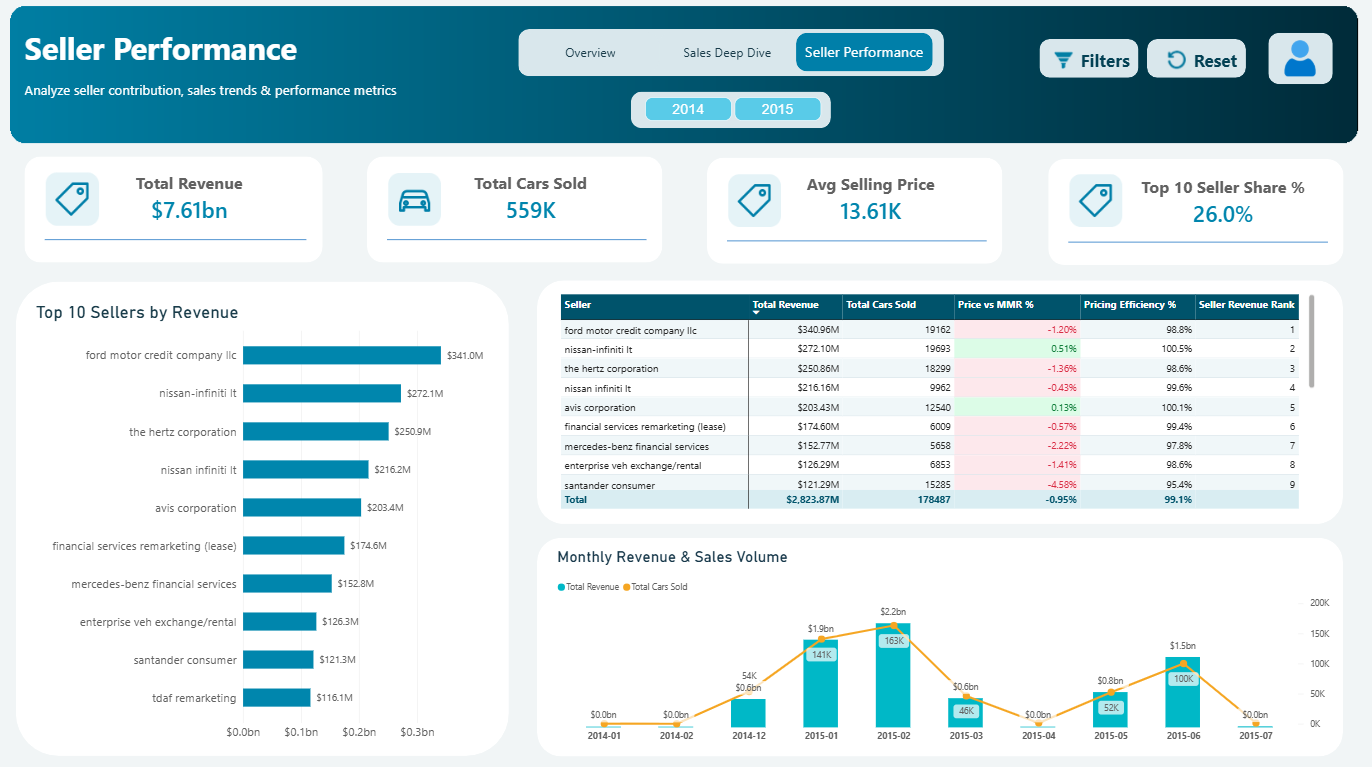

The page's visual inventory and layout, read from the dashboard file:
{"tool":"powerbi","page":{"name":"Seller Performance","canvas":[1920,1080],"ordinal":2},"visuals":[{"type":"image","box":[0,0,1920,1078],"z":0},{"type":"shape","box":[728,42,594,66],"z":0,"group":"g8"},{"type":"shape","box":[1774.3,47.1,90,71.8],"z":0,"group":"g1"},{"type":"shape","box":[884,128.9,279.4,51.4],"z":0,"group":"g9"},{"type":"shape","box":[38,220,416,148],"z":0,"group":"g2"},{"type":"shape","box":[516.7,220,412,148],"z":0,"group":"g5"},{"type":"shape","box":[991.3,222,412,148],"z":0,"group":"g6"},{"type":"shape","box":[1466,222,412,148],"z":0,"group":"g7"},{"type":"shape","box":[26,394,688.1,662],"z":0,"group":"g3"},{"type":"shape","box":[752.8,751,1124.6,305.2],"z":0,"group":"g4"},{"type":"textbox","box":[37.6,37.6,987.1,131.5],"z":1000},{"type":"pageNavigator","box":[734,48,574,54],"z":1000,"group":"g8"},{"type":"image","box":[1774.3,58.7,88.2,50.5],"z":1000,"group":"g1"},{"type":"ChicletSlicer1448559807354","fields":{"Category":["DimDate.Year"]},"box":[886.2,120,281.6,102.8],"z":1000,"group":"g9"},{"type":"image","box":[67.1,236.7,74.5,84.6],"z":1000,"group":"g2"},{"type":"image","box":[545.6,236.7,73.7,84.6],"z":1000,"group":"g5"},{"type":"image","box":[1020.2,238.7,73.7,84.6],"z":1000,"group":"g6"},{"type":"image","box":[1494.9,238.7,73.7,84.6],"z":1000,"group":"g7"},{"type":"clusteredBarChart","title":"Top 10 Sellers by Revenue","fields":{"Category":["DimSeller.Seller"],"Y":["AllMeasure.Total Revenue"]},"box":[38,408.3,680,647.7],"z":1000,"group":"g3"},{"type":"cardVisual","fields":{"Data":["AllMeasure.Author Tooltip Trigger"]},"box":[1756.8,33.5,122.3,95.1],"z":2000,"group":"g1"},{"type":"group","id":"g1","title":"Group 6","box":[1756.8,33.5,122.9,93.9],"z":2000},{"type":"cardVisual","fields":{"Data":["AllMeasure.Total Revenue"]},"box":[141.6,192,254.1,172.5],"z":2000,"group":"g2"},{"type":"cardVisual","fields":{"Data":["AllMeasure.Total Cars Sold"]},"box":[619.3,192,251.7,172.5],"z":2000,"group":"g5"},{"type":"cardVisual","fields":{"Data":["AllMeasure.Avg Selling Price"]},"box":[1093.9,194,251.7,172.5],"z":2000,"group":"g6"},{"type":"cardVisual","fields":{"Data":["AllMeasure.Top 10 Seller Share %"]},"box":[1568,200,286,166],"z":2000,"group":"g7"},{"type":"group","id":"g2","title":"Group 3","box":[38,192,416,202],"z":3000},{"type":"shape","box":[66.3,280,365.8,113.4],"z":3000,"group":"g2"},{"type":"shape","box":[544.7,280,362.3,113.4],"z":3000,"group":"g5"},{"type":"shape","box":[1019.3,282,362.3,113.4],"z":3000,"group":"g6"},{"type":"shape","box":[1494,282,362.3,113.4],"z":3000,"group":"g7"},{"type":"group","id":"g3","title":"Group 7","box":[26,394,692,662],"z":4000},{"type":"group","id":"g4","title":"Group 9","box":[752.8,751,1124.6,305.2],"z":5000},{"type":"shape","box":[752.8,392.1,1124.6,340.3],"z":6000},{"type":"group","id":"g5","title":"Group 3","box":[516.7,192,412,202],"z":7000},{"type":"lineClusteredColumnComboChart","title":"Monthly Revenue & Sales Volume","fields":{"Category":["DimDate.Year Month"],"Y":["AllMeasure.Total Revenue"],"Y2":["AllMeasure.Total Cars Sold"]},"box":[765.8,751,1111.7,305.2],"z":8000},{"type":"group","id":"g6","title":"Group 3","box":[991.3,194,412,202],"z":9000},{"type":"group","id":"g7","title":"Group 3","box":[1466,200,412,195.4],"z":10000},{"type":"group","id":"g8","title":"Group 1","box":[728,42,594,66],"z":13000},{"type":"actionButton","title":"Reset","box":[1604,56,138,54],"z":14000},{"type":"pivotTable","fields":{"Rows":["DimSeller.Seller"],"Values":["AllMeasure.Total Revenue","AllMeasure.Total Cars Sold","AllMeasure.Price vs MMR %","AllMeasure.Pricing Efficiency %","AllMeasure.Seller Revenue Rank"]},"box":[771.3,397.7,1083.9,329.2],"z":16250},{"type":"actionButton","title":"Filter white","box":[1454,56,138,54],"z":17000},{"type":"group","id":"g9","title":"Group 8","box":[884,120,284,102],"z":18000}]}

Visuals, with their boxes in screenshot pixels (x1, y1, x2, y2), scaled from the page's 1920x1080 canvas onto the 1372x767 screenshot:
image: detection(0, 0, 1371, 766)
shape: detection(520, 30, 945, 77)
shape: detection(1268, 33, 1332, 84)
shape: detection(632, 92, 831, 128)
shape: detection(27, 156, 324, 261)
shape: detection(369, 156, 664, 261)
shape: detection(708, 158, 1003, 263)
shape: detection(1048, 158, 1342, 263)
shape: detection(19, 280, 510, 750)
shape: detection(538, 533, 1342, 750)
textbox: detection(27, 27, 732, 120)
pageNavigator: detection(525, 34, 935, 72)
image: detection(1268, 42, 1331, 78)
ChicletSlicer1448559807354 - DimDate.Year: detection(633, 85, 834, 158)
image: detection(48, 168, 101, 228)
image: detection(390, 168, 443, 228)
image: detection(729, 170, 782, 230)
image: detection(1068, 170, 1121, 230)
"Top 10 Sellers by Revenue" clusteredBarChart: detection(27, 290, 513, 750)
cardVisual - AllMeasure.Author Tooltip Trigger: detection(1255, 24, 1343, 91)
"Group 6" group: detection(1255, 24, 1343, 90)
cardVisual - AllMeasure.Total Revenue: detection(101, 136, 283, 259)
cardVisual - AllMeasure.Total Cars Sold: detection(443, 136, 622, 259)
cardVisual - AllMeasure.Avg Selling Price: detection(782, 138, 962, 260)
cardVisual - AllMeasure.Top 10 Seller Share %: detection(1120, 142, 1325, 260)
"Group 3" group: detection(27, 136, 324, 280)
shape: detection(47, 199, 309, 279)
shape: detection(389, 199, 648, 279)
shape: detection(728, 200, 987, 281)
shape: detection(1068, 200, 1326, 281)
"Group 7" group: detection(19, 280, 513, 750)
"Group 9" group: detection(538, 533, 1342, 750)
shape: detection(538, 278, 1342, 520)
"Group 3" group: detection(369, 136, 664, 280)
"Monthly Revenue & Sales Volume" lineClusteredColumnComboChart: detection(547, 533, 1342, 750)
"Group 3" group: detection(708, 138, 1003, 281)
"Group 3" group: detection(1048, 142, 1342, 281)
"Group 1" group: detection(520, 30, 945, 77)
"Reset" actionButton: detection(1146, 40, 1245, 78)
pivotTable - DimSeller.Seller x AllMeasure.Total Revenue: detection(551, 282, 1326, 516)
"Filter white" actionButton: detection(1039, 40, 1138, 78)
"Group 8" group: detection(632, 85, 835, 158)
